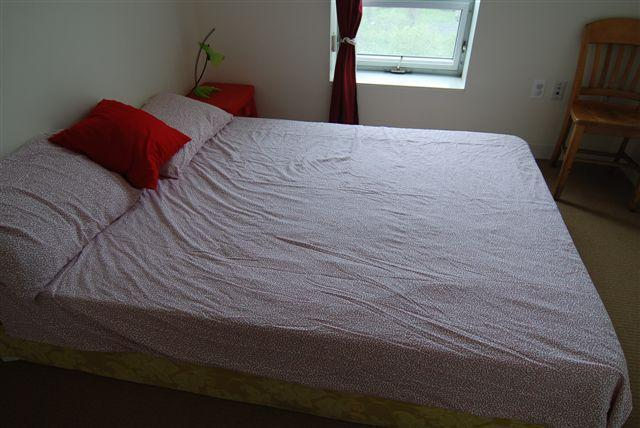Cama: (25, 91, 619, 423)
Ventana: (331, 2, 467, 86)
